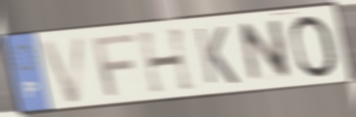F: (90, 31, 138, 98)
H: (136, 25, 198, 97)
K: (192, 25, 242, 87)
N: (236, 17, 294, 86)
O: (288, 13, 341, 81)
V: (37, 32, 89, 106)
